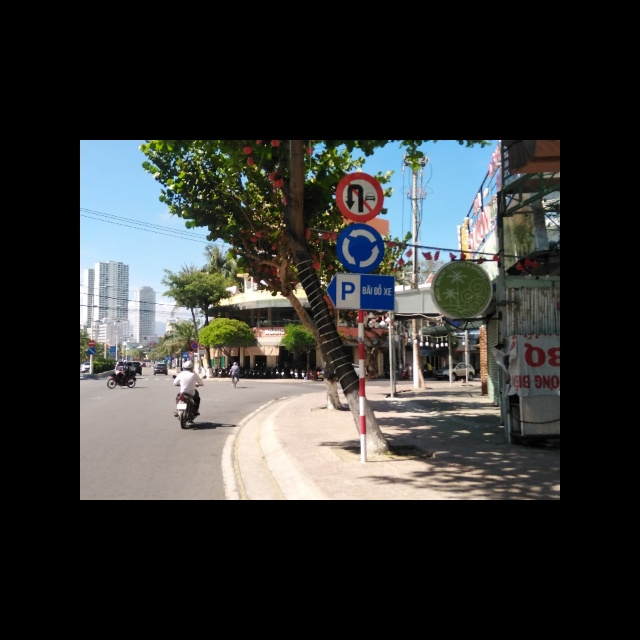Cấm xe ô tô quay đầu: (335, 170, 382, 224)
Nơi giao nhau chạy theo vòng xuyến: (337, 223, 385, 272)
Nơi đỗ xe: (327, 272, 395, 311)
